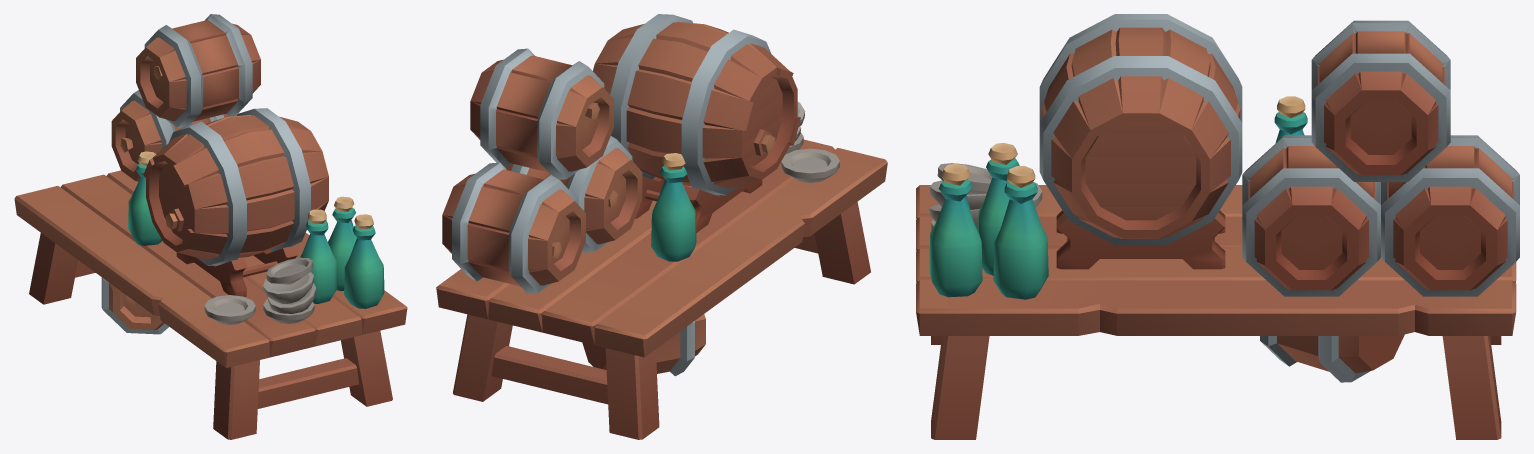
File: table_long_decorated_C.gltf
The picture shows the model from 3 angles, left to right: view 1: azimuth 30°, elevation 25°; view 2: azimuth 150°, elevation 25°; view 3: azimuth 270°, elevation 25°; orthographic projection. The views are drawn at different scales.
Parts seen in each view (by area): view 1: table_long_decorated_C; view 2: table_long_decorated_C; view 3: table_long_decorated_C.
Part boxes in pixels (x1,y1,x2,y2): table_long_decorated_C: [14, 14, 407, 439]; table_long_decorated_C: [436, 14, 887, 439]; table_long_decorated_C: [916, 14, 1519, 439].
Bounding box in the file's own units: 2 × 2.77 × 4.03.
1 material, 1 textured.
